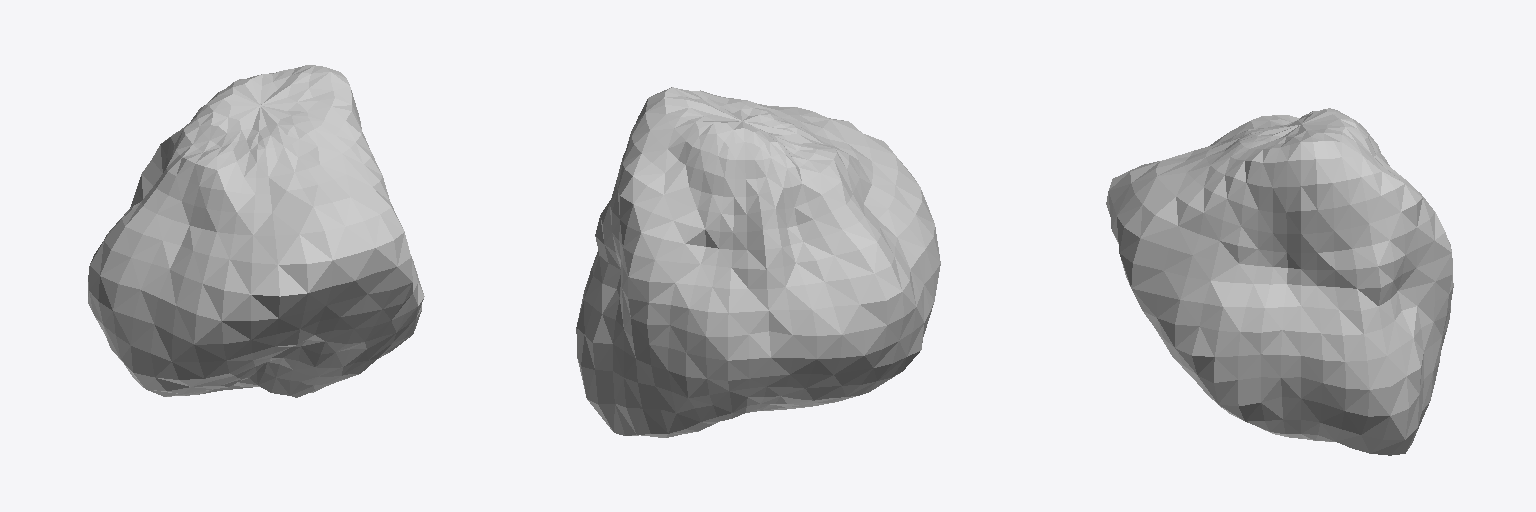
The model's file is rock.obj.
3 views of the same model, side by side, from view 1: azimuth 30°, elevation 25°; view 2: azimuth 150°, elevation 25°; view 3: azimuth 270°, elevation 25° (orthographic).
Parts seen in each view (by area): view 1: Mesh_Stone_5_LOD1; view 2: Mesh_Stone_5_LOD1; view 3: Mesh_Stone_5_LOD1.
Part boxes in pixels (left/top/right/bottom): Mesh_Stone_5_LOD1: left=88, top=65, right=424, bottom=397; Mesh_Stone_5_LOD1: left=576, top=87, right=940, bottom=437; Mesh_Stone_5_LOD1: left=1106, top=108, right=1453, bottom=455.
Size of the model in its own units: 270 by 274 by 277.